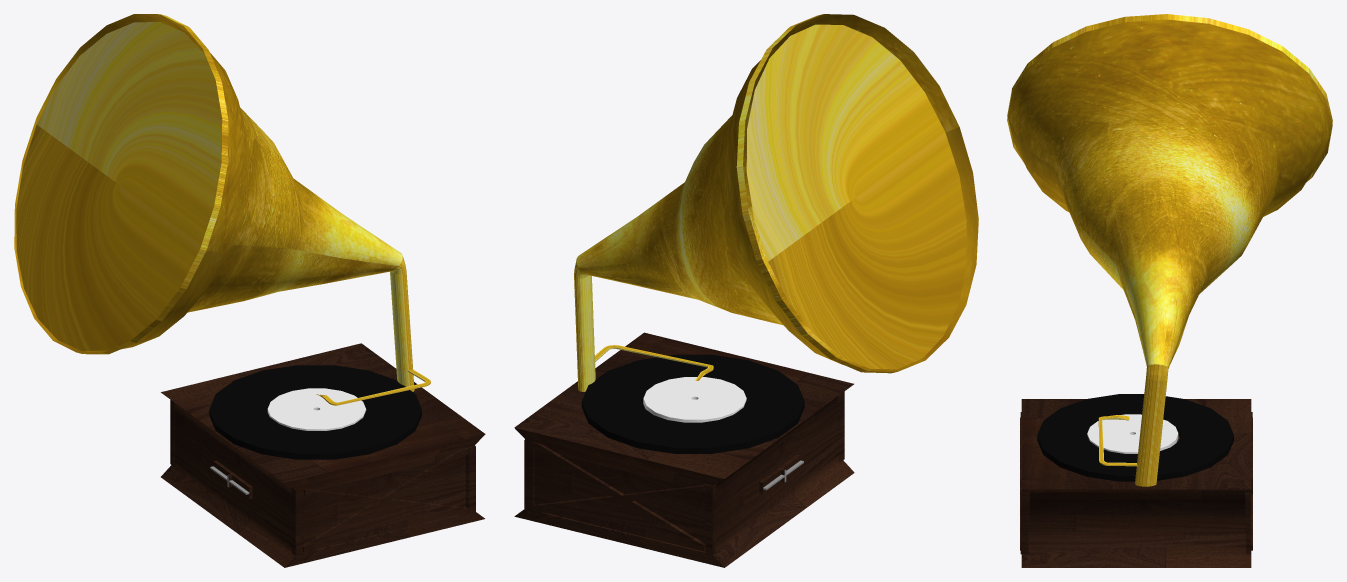
File: laushinchi(dvd).FBX
The picture shows the model from 3 angles, left to right: view 1: azimuth 30°, elevation 25°; view 2: azimuth 150°, elevation 25°; view 3: azimuth 270°, elevation 25°; orthographic projection. The views are drawn at different scales.
Visible parts, largest first — view 1: Cone003, Box001, Cone001, Tube001, Tube002; view 2: Cone003, Box001, Cone001, Tube001, Tube002; view 3: Cone001, Box001, Tube001, Tube002.
Boxes of the visible parts, x1,y1,x2,y2 form: Cone003: (16, 22, 222, 350); Box001: (161, 343, 485, 567); Cone001: (14, 14, 430, 405); Tube001: (209, 365, 421, 459); Tube002: (267, 388, 366, 430); Cone003: (746, 24, 966, 369); Box001: (514, 332, 854, 567); Cone001: (574, 14, 978, 391); Tube001: (581, 354, 804, 453); Tube002: (643, 377, 746, 422); Cone001: (1007, 14, 1332, 486); Box001: (1020, 399, 1252, 567); Tube001: (1037, 394, 1233, 481); Tube002: (1087, 414, 1178, 453).
Size of the model in its own units: 104 by 139 by 90.36.
